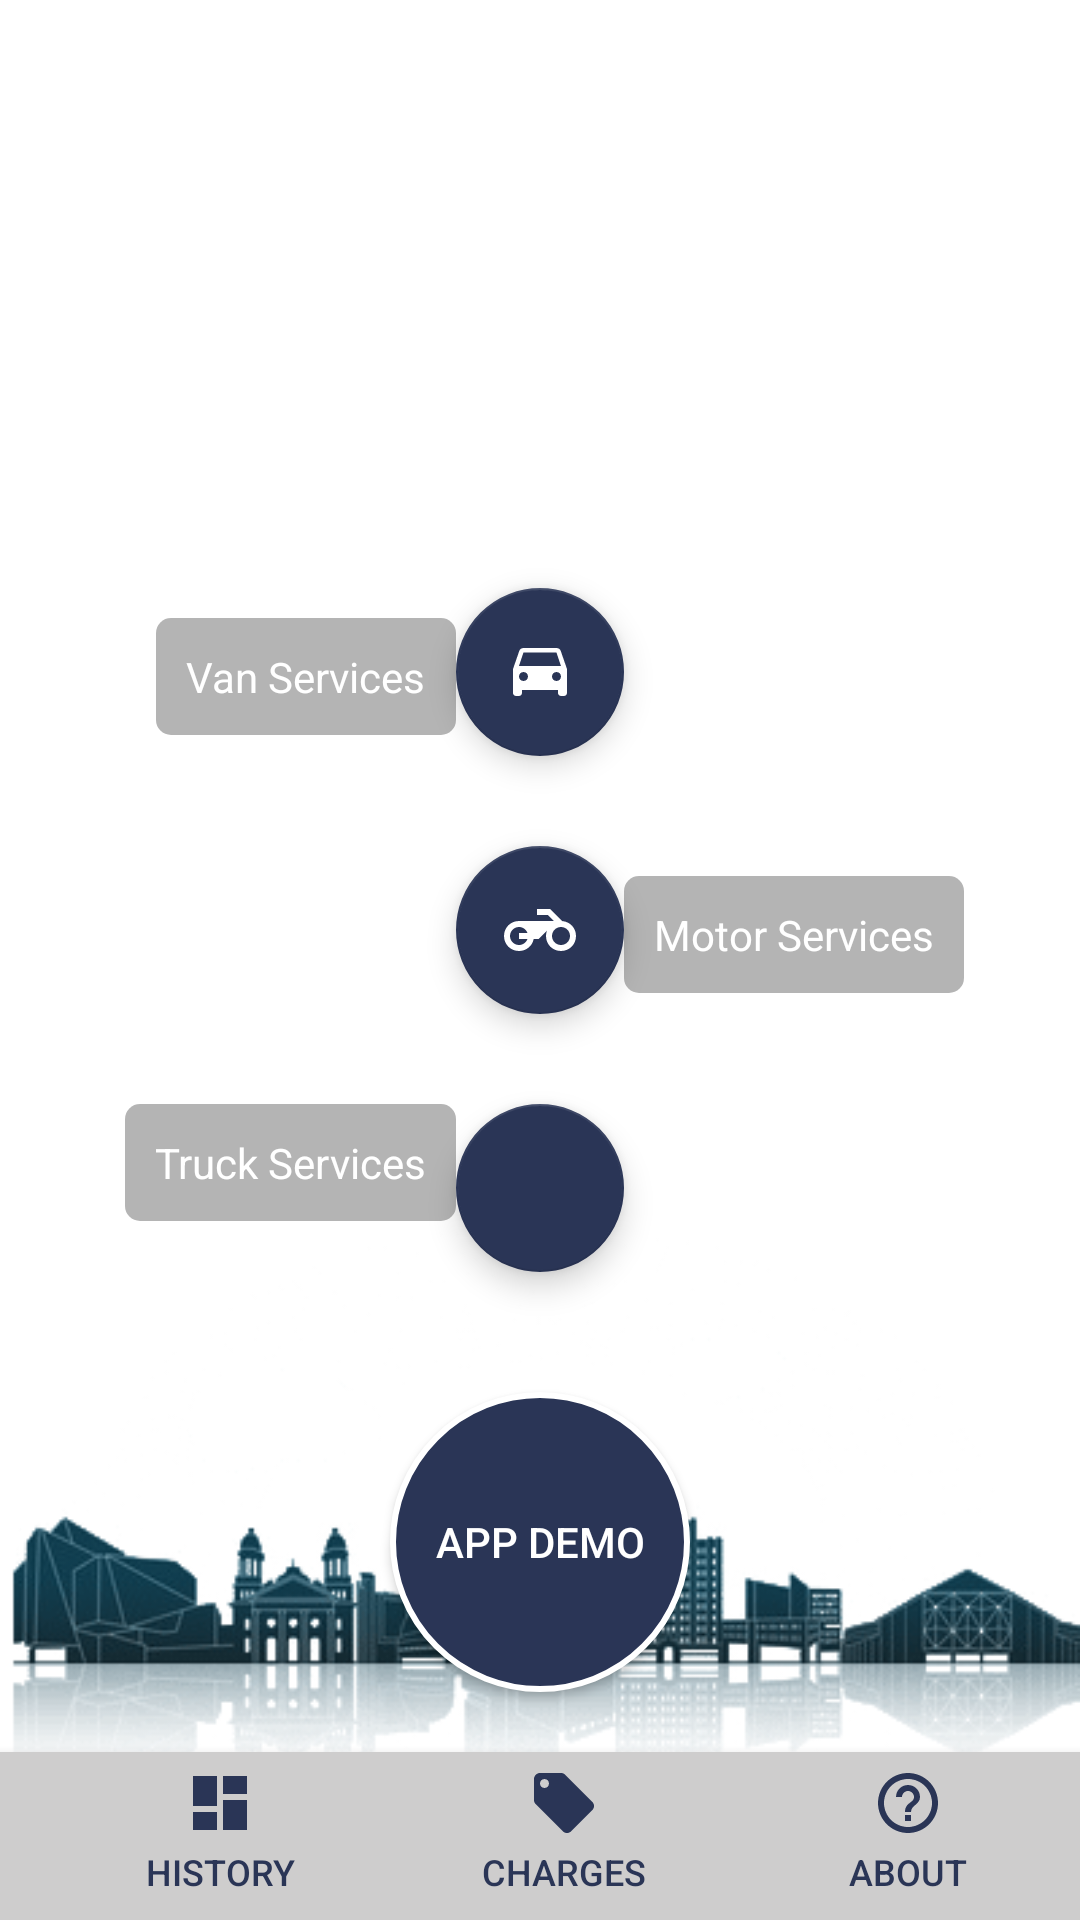

Where to tap for icons on this 1080 × 1920 app screen, as (x,y):
motorcycle: (540,930)
